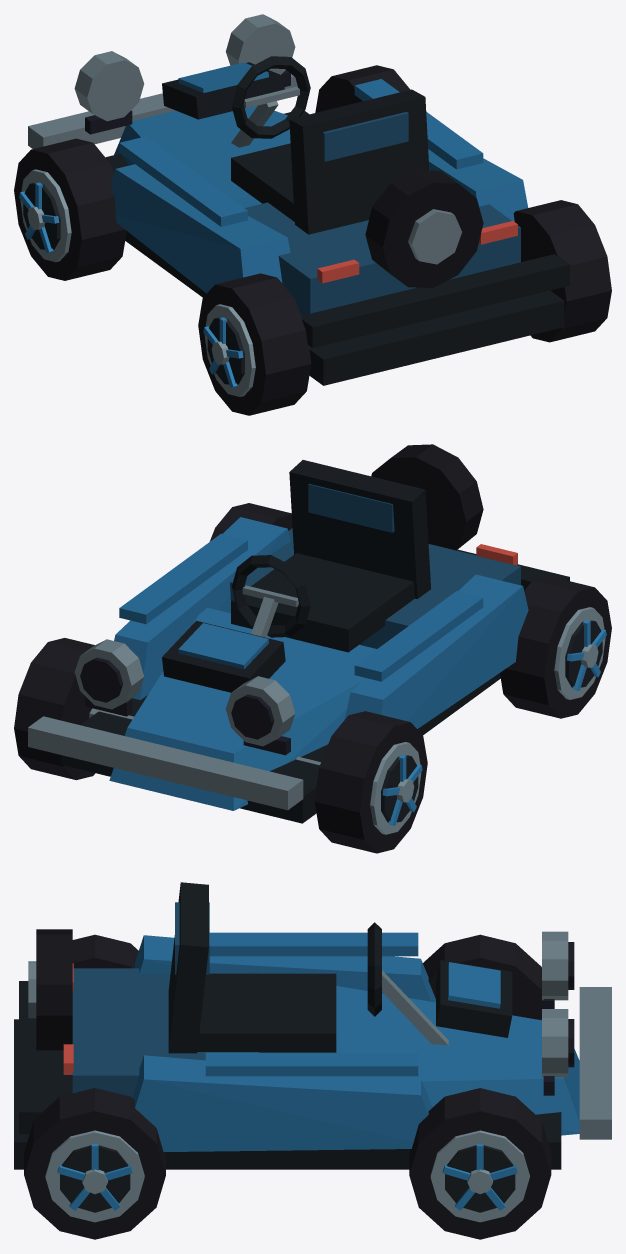
Rendered from kart.glb.
3 renders of one model, top to bottom at view 1: azimuth 30°, elevation 25°; view 2: azimuth 150°, elevation 25°; view 3: azimuth 270°, elevation 25°, orthographic. The views are drawn at different scales.
Visible parts, largest first — view 1: chassis, wheel-rear-left, wheel-front-left, wheel-rear-right, wheel-front-right; view 2: chassis, wheel-front-left, wheel-rear-left, wheel-front-right, wheel-rear-right; view 3: chassis, wheel-front-right, wheel-rear-right, wheel-front-left, wheel-rear-left.
Boxes of the visible parts, left/top/right/bottom form: chassis: left=28, top=14, right=569, bottom=385; wheel-rear-left: left=198, top=273, right=311, bottom=415; wheel-front-left: left=14, top=138, right=126, bottom=280; wheel-rear-right: left=513, top=200, right=611, bottom=342; wheel-front-right: left=315, top=65, right=410, bottom=112; chassis: left=28, top=444, right=569, bottom=823; wheel-front-left: left=314, top=711, right=427, bottom=853; wheel-rear-left: left=500, top=576, right=611, bottom=718; wheel-front-right: left=14, top=638, right=95, bottom=780; wheel-rear-right: left=209, top=503, right=292, bottom=541; chassis: left=14, top=882, right=611, bottom=1169; wheel-front-right: left=409, top=1088, right=551, bottom=1239; wheel-rear-right: left=24, top=1088, right=165, bottom=1239; wheel-front-left: left=423, top=934, right=543, bottom=1019; wheel-rear-left: left=72, top=934, right=138, bottom=968.
Bounding box in the file's own units: 2.23 × 1.3 × 2.95.
